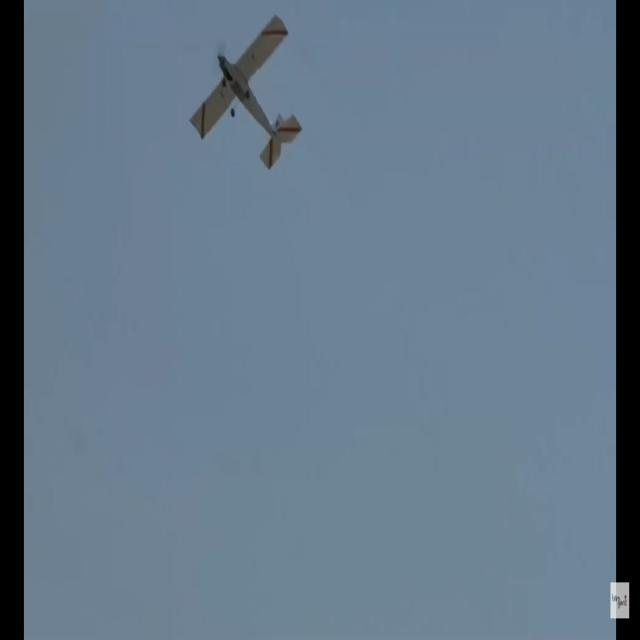iha: (217, 0, 270, 110)
